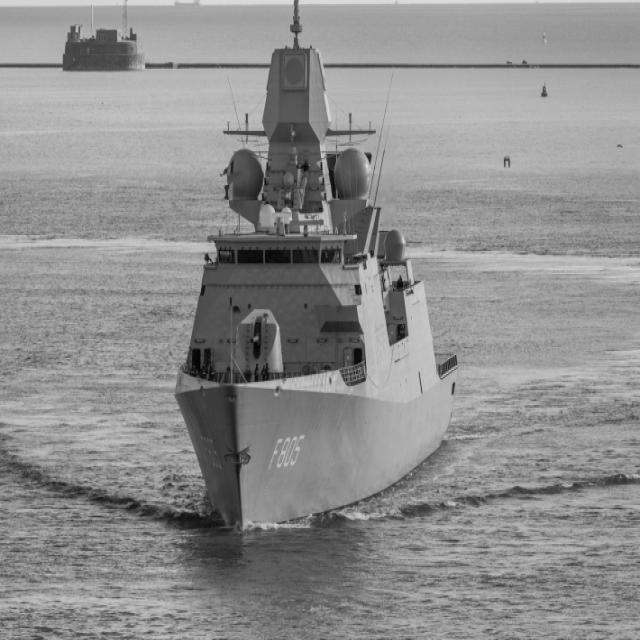Fragata: (176, 1, 466, 541)
